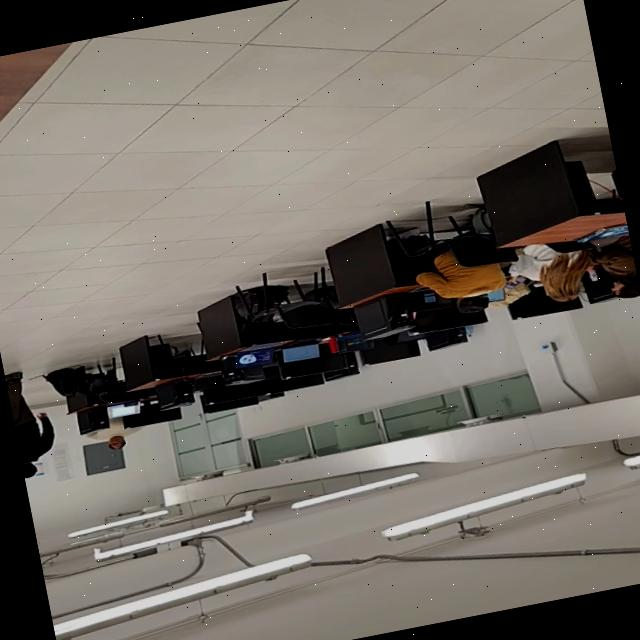Persona: (4, 364, 67, 484)
